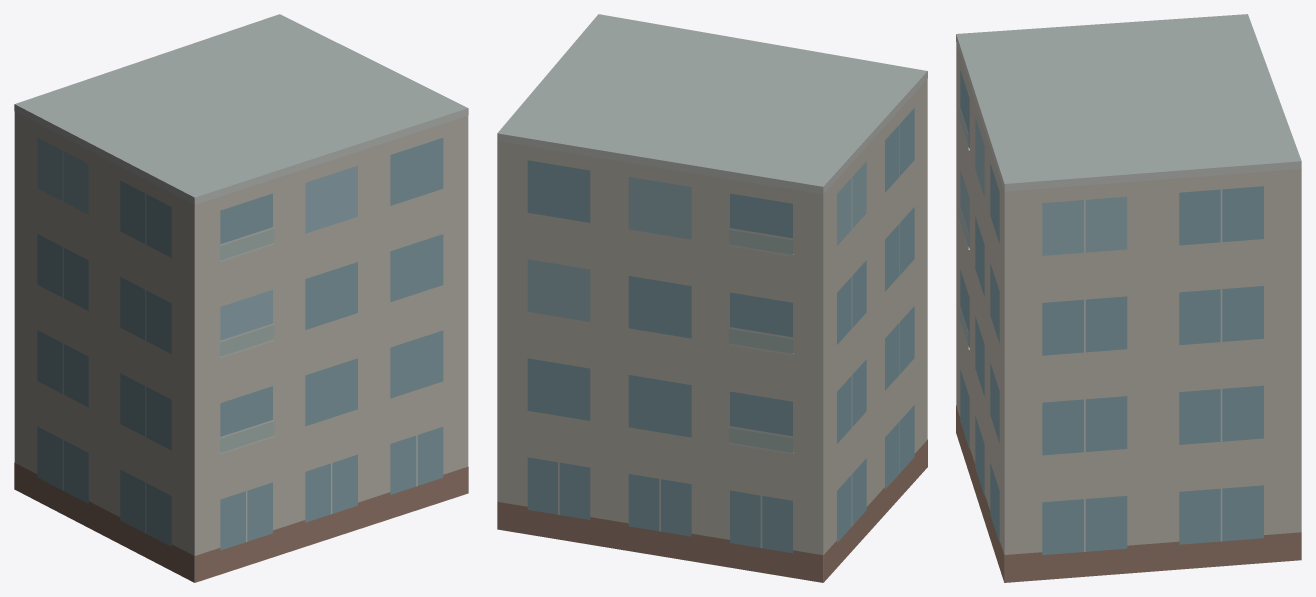
Rendered from survey-upis-32769392.glb.
3 renders of one model, left to right at view 1: azimuth 30°, elevation 25°; view 2: azimuth 150°, elevation 25°; view 3: azimuth 270°, elevation 25°, orthographic. The views are drawn at different scales.
Visible parts, largest first — view 1: survey-upis-32769392.tmp; view 2: survey-upis-32769392.tmp; view 3: survey-upis-32769392.tmp.
Boxes of the visible parts, bbox=[...] form: survey-upis-32769392.tmp: bbox=[14, 14, 468, 582]; survey-upis-32769392.tmp: bbox=[497, 14, 927, 582]; survey-upis-32769392.tmp: bbox=[956, 14, 1301, 582].
Size of the model in its own units: 11.71 by 12.8 by 10.06.
